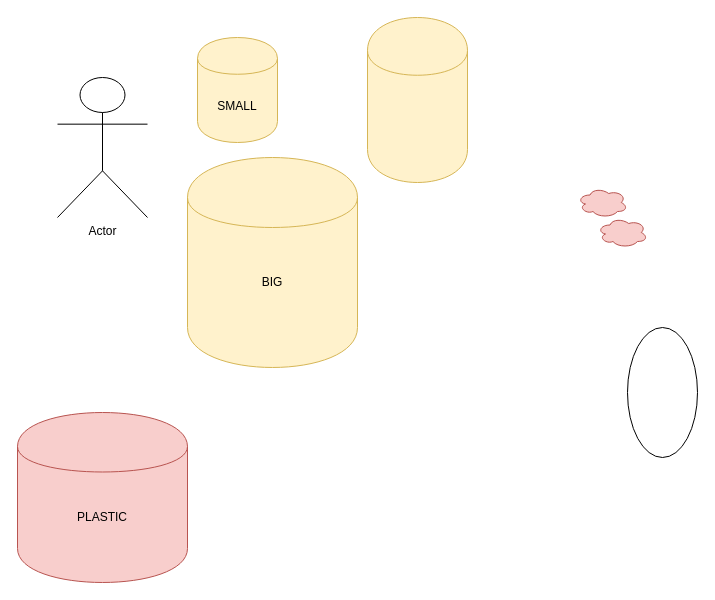
Some shapes in this 715 by 600 pixel diagram are drawn without their labels. Here are the shapes that lost their labels. From the top down, the box of each, then its label:
(366, 16, 468, 182): MEDIUM
(626, 326, 698, 458): MILK
